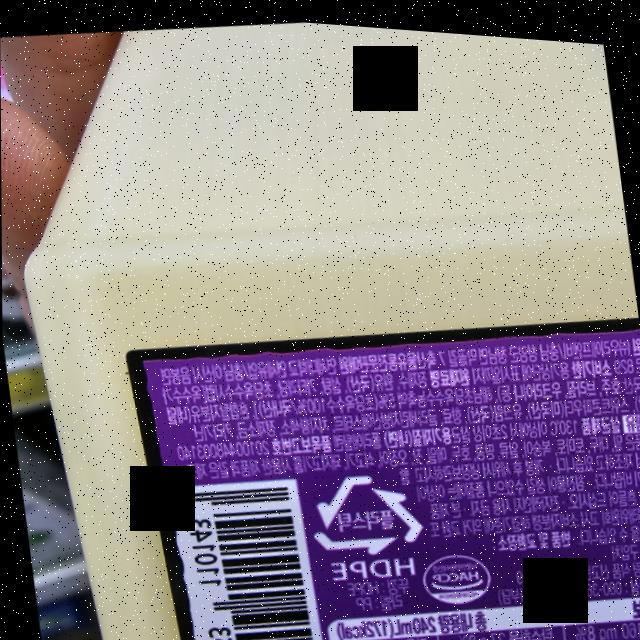Plastic: (303, 454, 429, 559)
